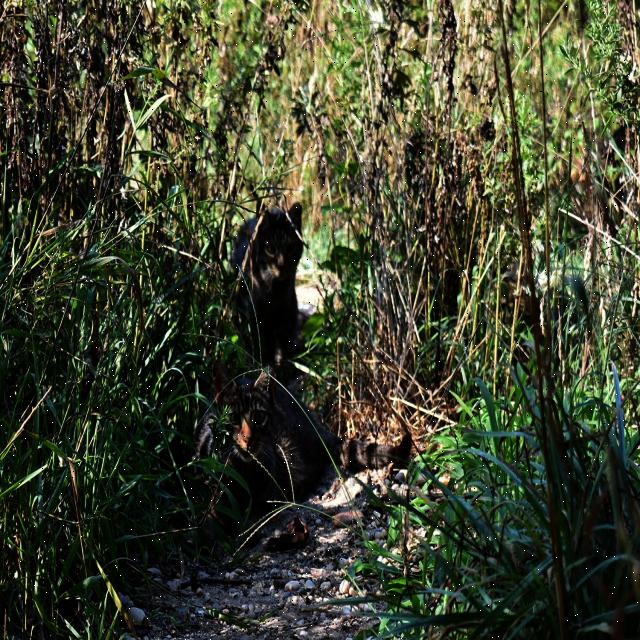cat: (194, 361, 411, 507), (231, 202, 302, 365)
